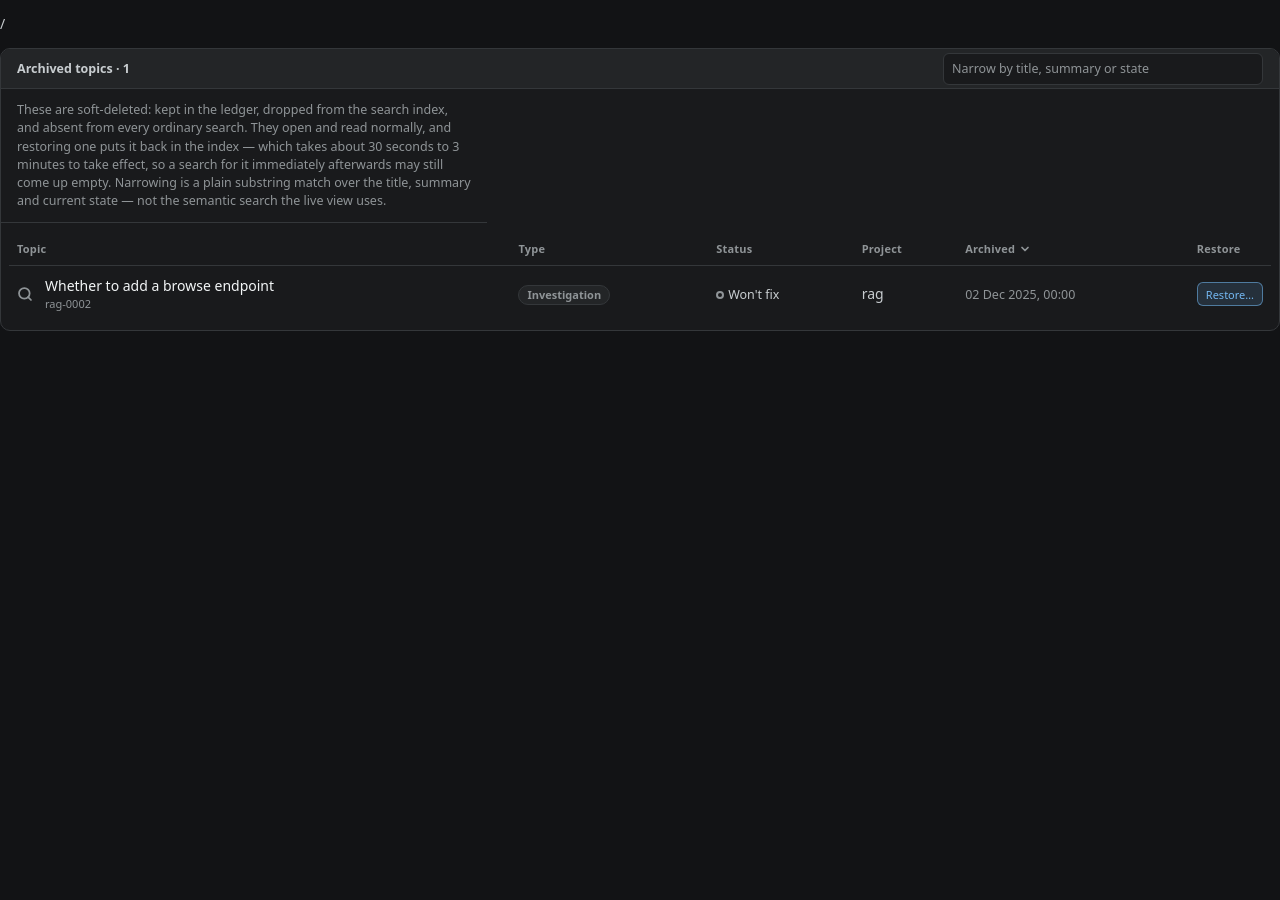
Scenario: ArchivedView › restores from a row and re-reads the list rather than splicing it
What coordinates should you click on to do the following:
click the button "Restore…"
I would click on:
 (1230, 294)
Its box is [1197, 282, 1263, 306].
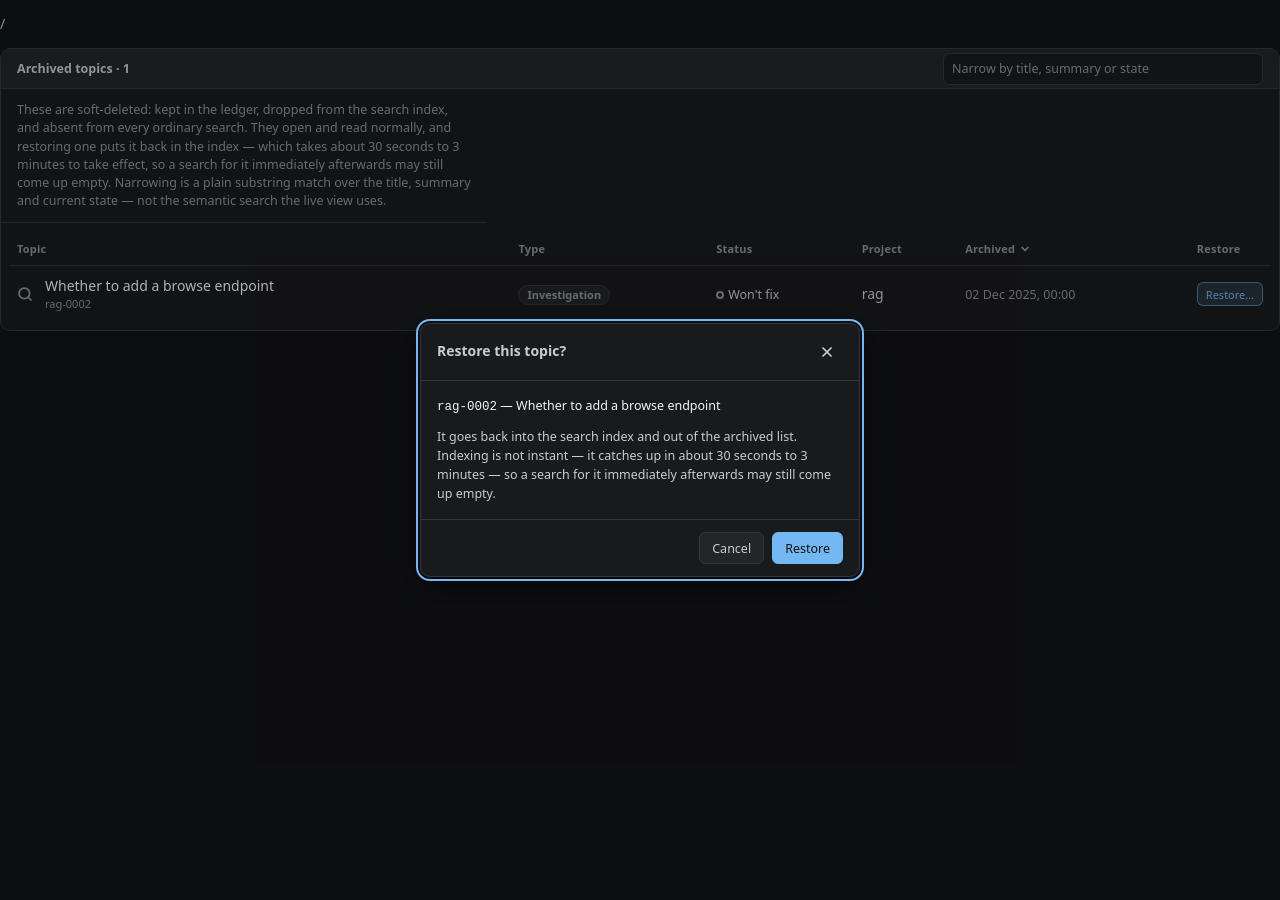
What coordinates should you click on to do the following:
click the button "Restore"
I would click on:
 (808, 548)
Its box is [772, 532, 843, 564].
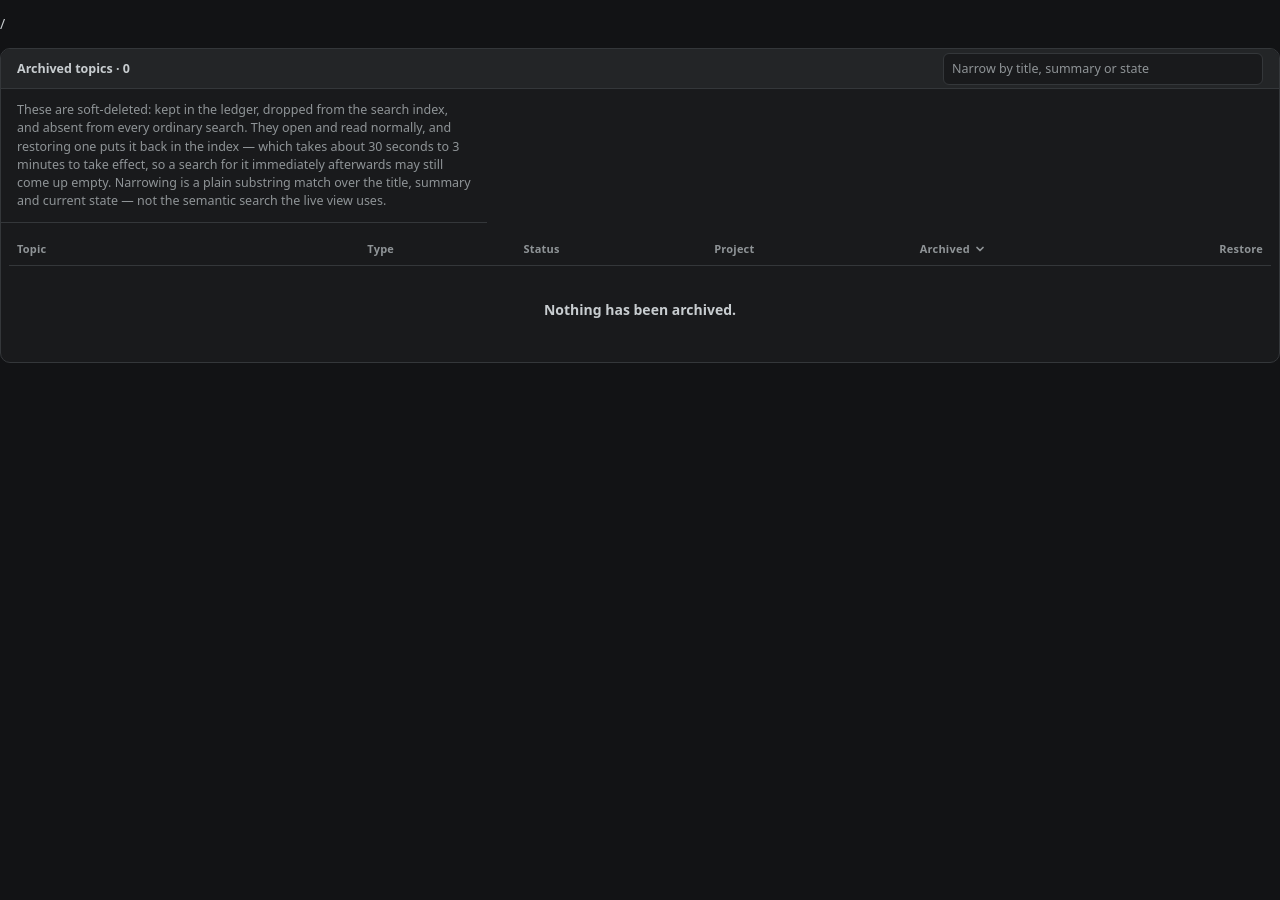
Expected: the text "Nothing has been archived." is shown, [544, 300, 736, 320]
